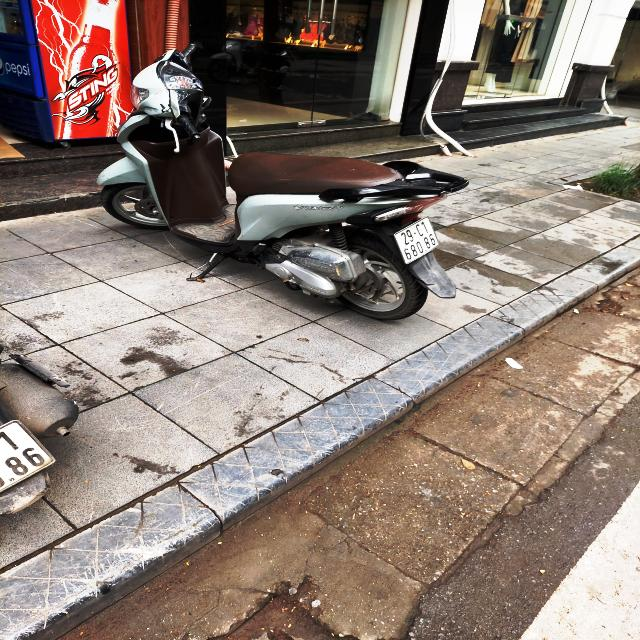license_plate: (393, 216, 441, 266)
